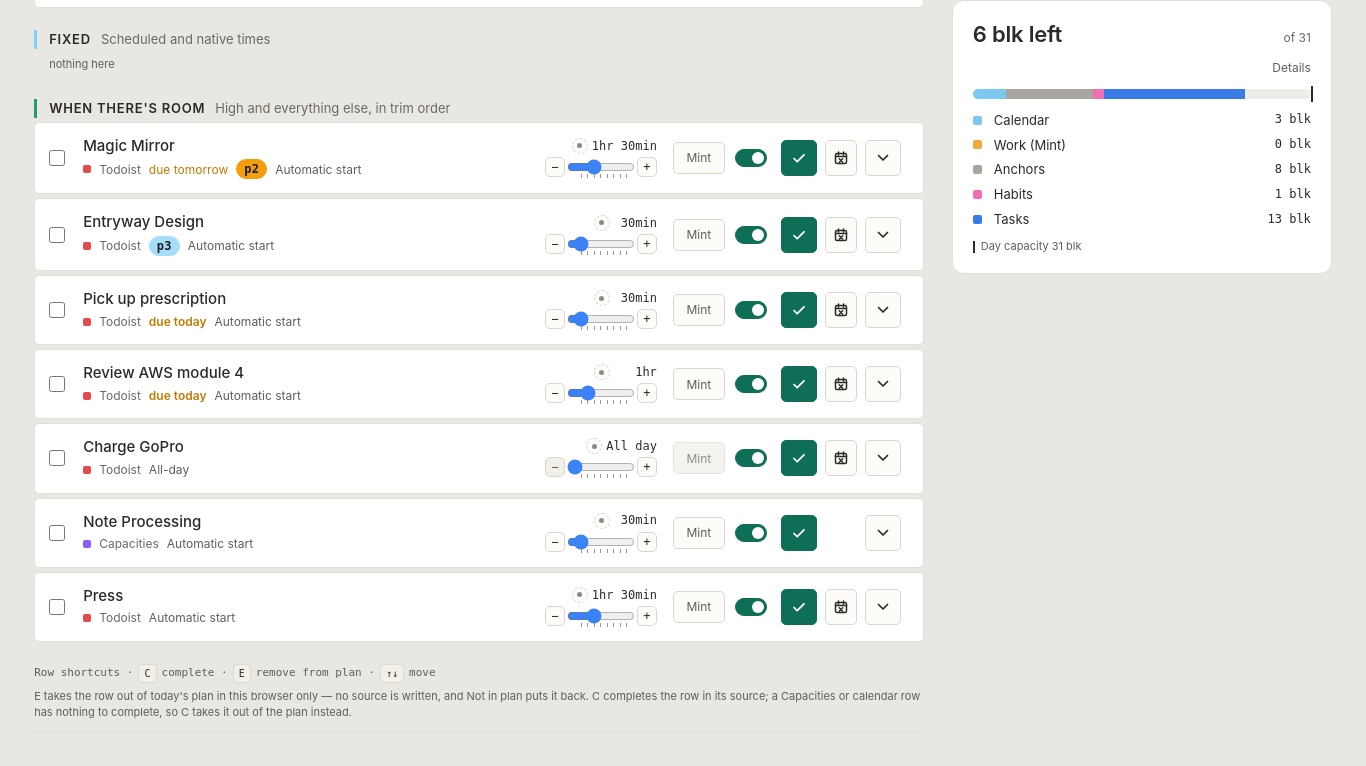
Test case: typed exact duration on the expanded row › is disabled for an all-day row
The image size is (1366, 766).
(page scrolled)
Step 1. Click the button named "Expand" in the row of "All day" → (883, 458), box [865,440,901,476]
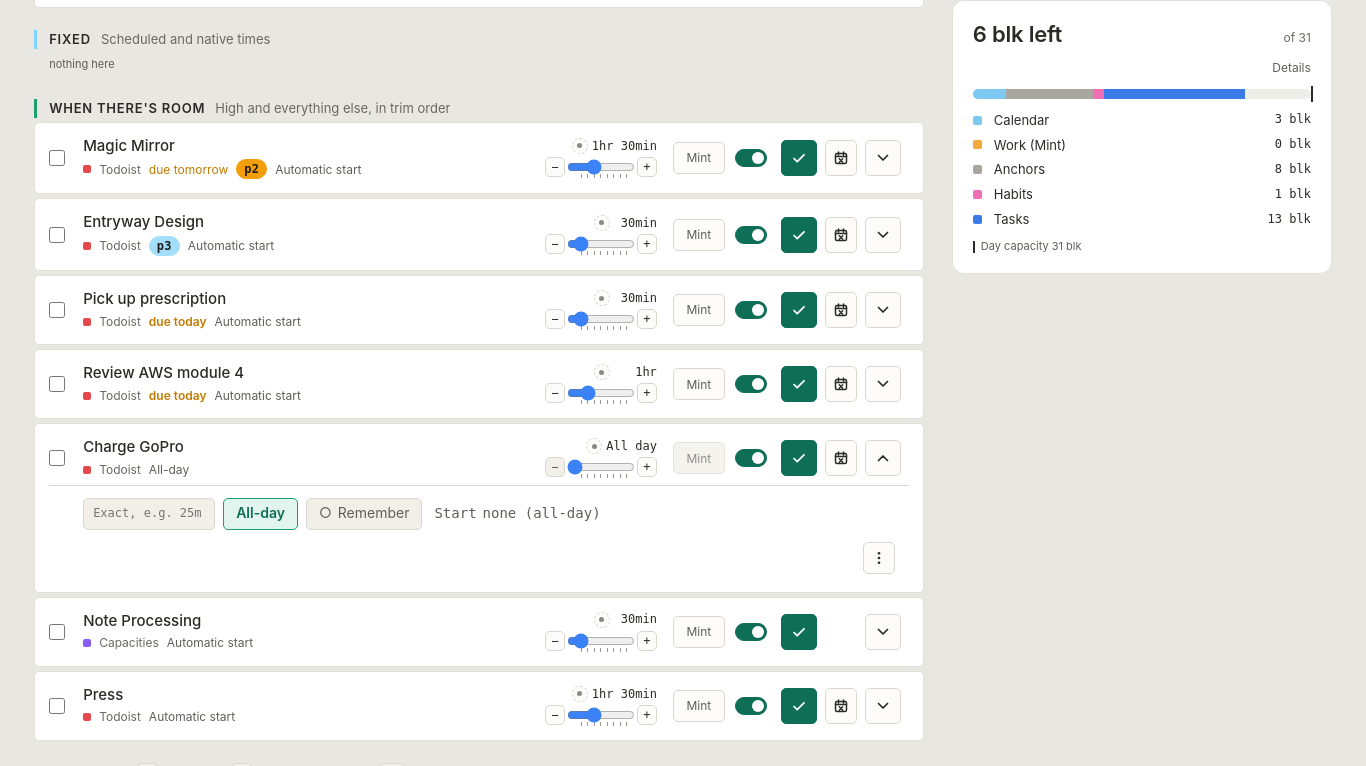
Expected: the field named "Exact minutes" is disabled, [83,498,215,530]
